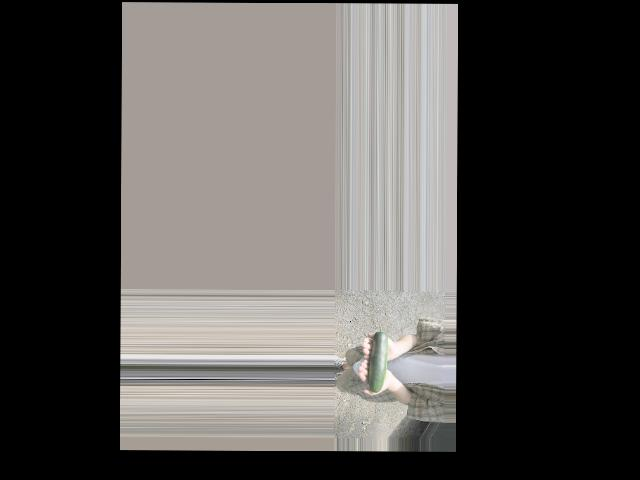cucumber: (367, 323, 387, 391)
